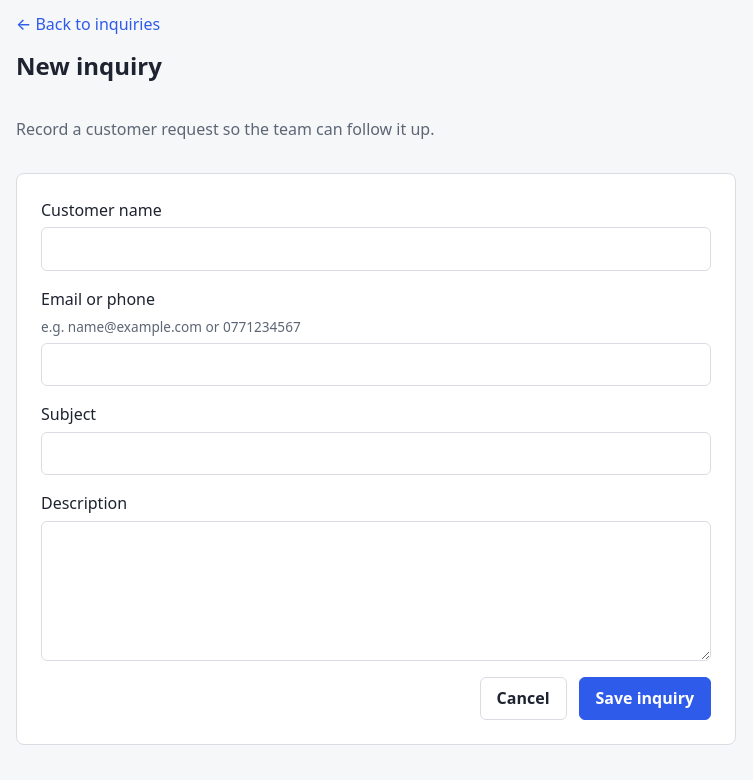
Test: shows field errors and does not call the API when required fields are missing
Click the button "Save inquiry". click: [645, 698]
box: [578,676,711,720]
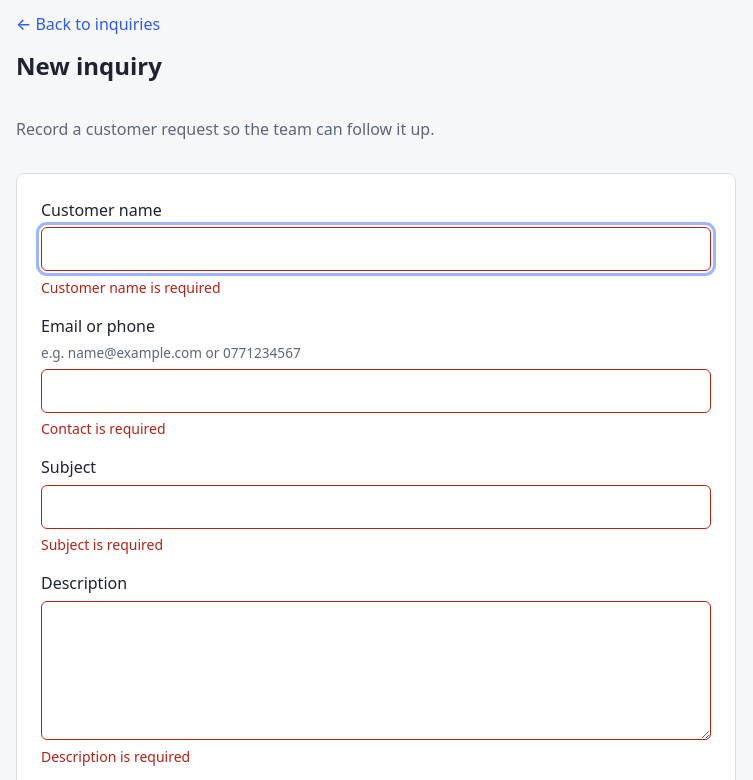
Now the text "Customer name is required" is shown, box [41,278,220,297]
Now the text "Contact is required" is shown, box [41,419,166,438]
Now the text "Subject is required" is shown, box [41,535,163,554]
